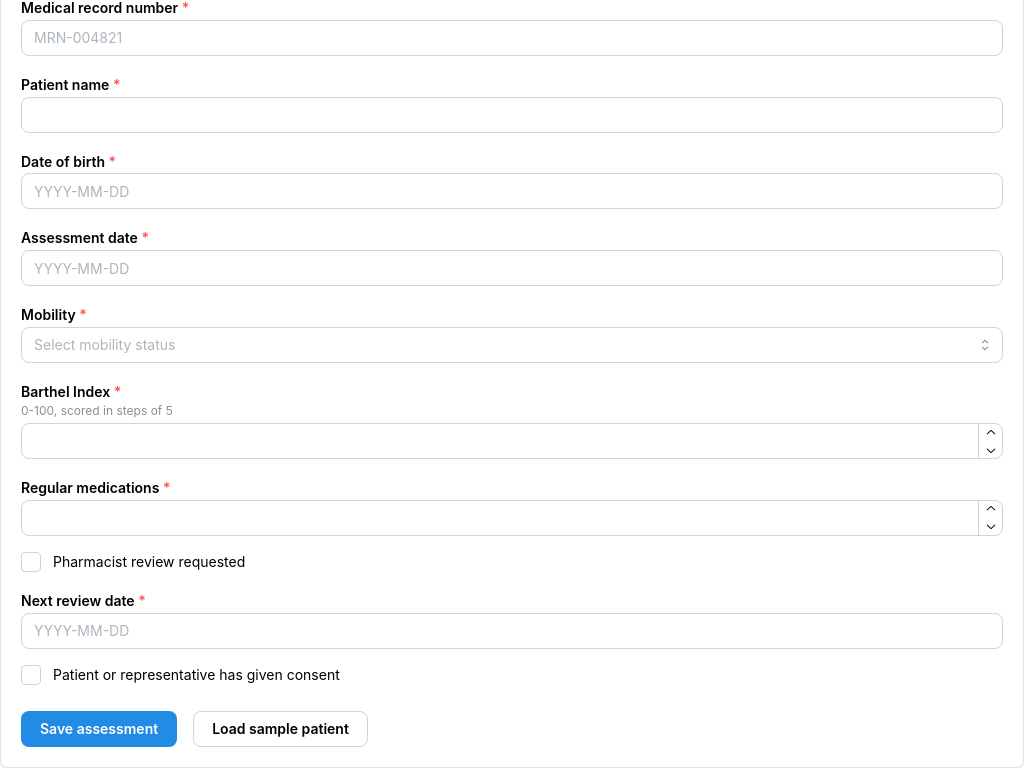
AssessmentForm › shows one error per required field on an empty submit and does not save
(page scrolled)
Click the button "Save assessment" at (99, 729), box [21,711,177,747]
(page scrolled)
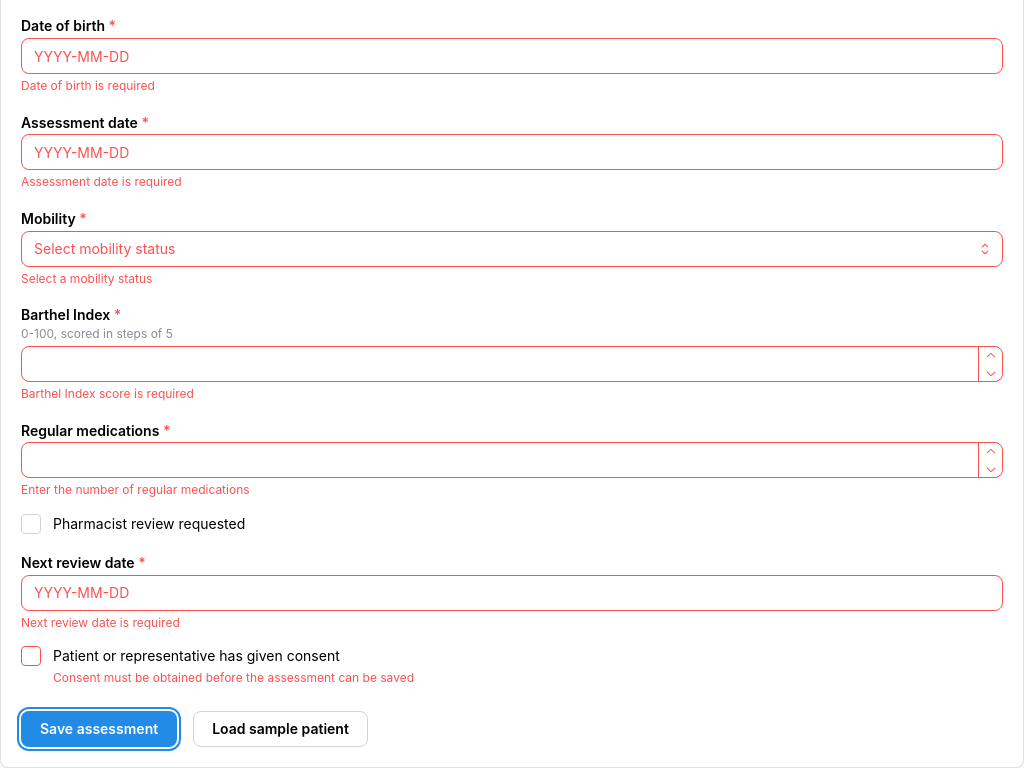
Result: the text "Date of birth is required" is shown at [21,78,155,93]
Result: the text "Assessment date is required" is shown at [21,174,182,189]
Result: the text "Select a mobility status" is shown at [21,270,152,286]
